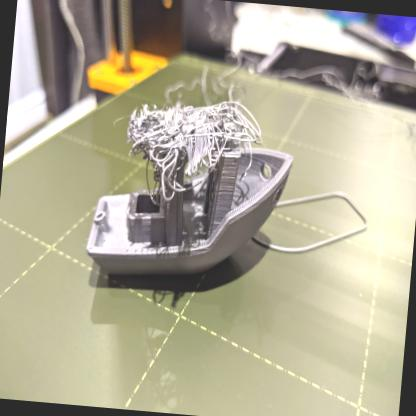fail: (115, 100, 262, 193)
